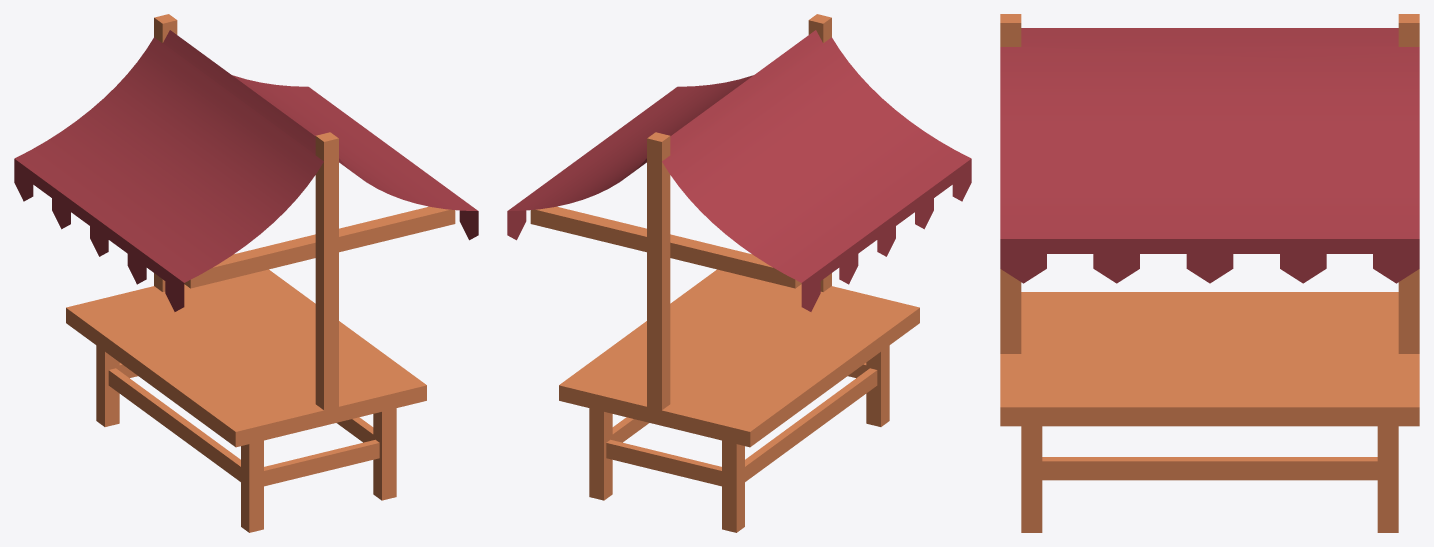
The model's file is d_kenney_etal_rouge.glb.
The picture shows the model from 3 angles, left to right: view 1: azimuth 30°, elevation 25°; view 2: azimuth 150°, elevation 25°; view 3: azimuth 270°, elevation 25°; orthographic projection. The views are drawn at different scales.
Visible parts, largest first — view 1: d_kenney_etal_rouge; view 2: d_kenney_etal_rouge; view 3: d_kenney_etal_rouge.
Boxes of the visible parts, box(x1,y1,x2,y2) form: d_kenney_etal_rouge: box(14, 14, 478, 532); d_kenney_etal_rouge: box(507, 14, 971, 532); d_kenney_etal_rouge: box(1000, 14, 1419, 532).
Bounding box in the file's own units: 1 × 1.24 × 1.
1 material, 1 textured.
